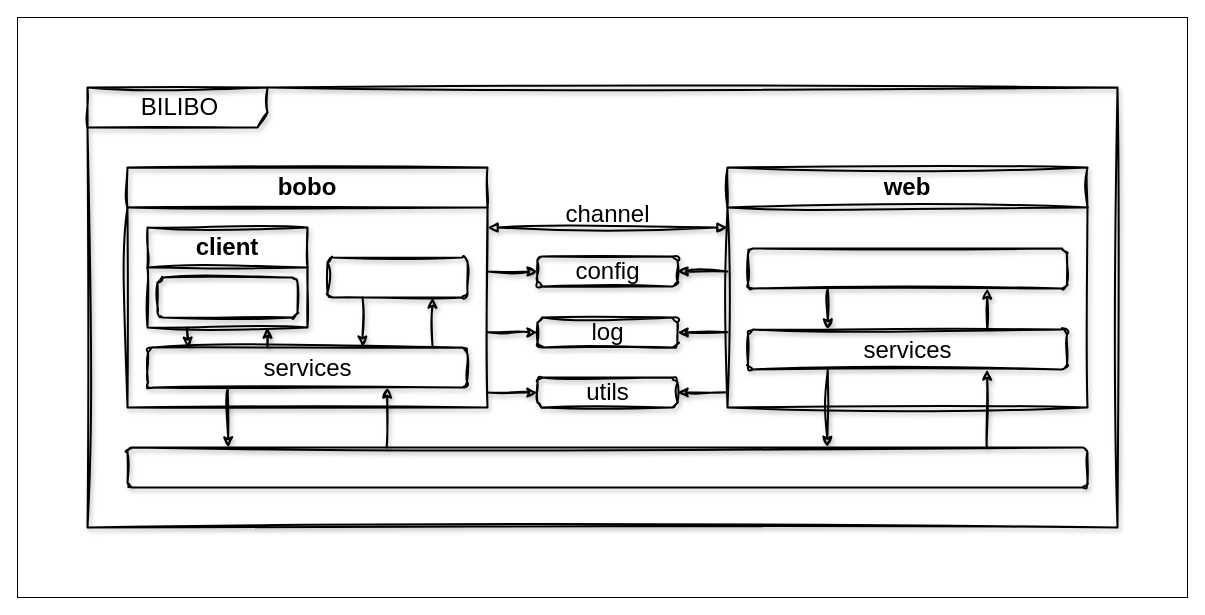
This 1205x615 diagram has some shape labels left out. The shapes that lost their labels are listed below. From the top down, each one's centre as x and y in pixels, then its label:
(398,278): scheduler
(908,269): views
(228,298): downloader
(608,468): models
